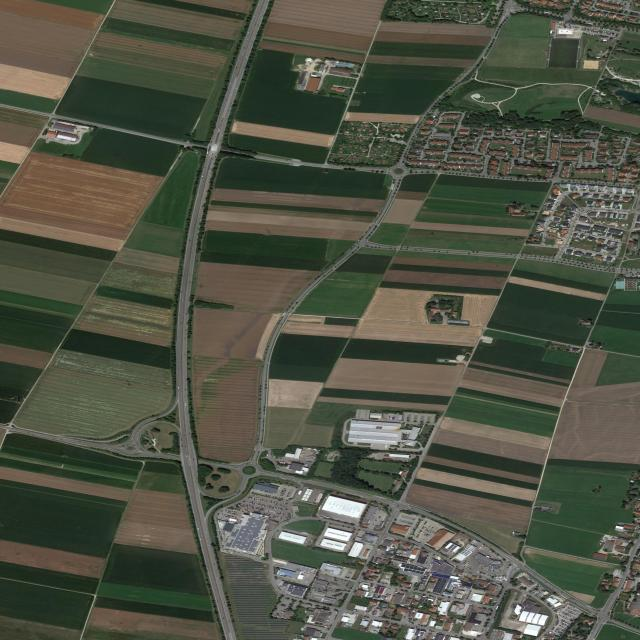large-vehicle: (281, 461, 283, 464), (279, 461, 281, 464), (283, 461, 284, 464)
small-vehicle: (47, 141, 49, 143), (222, 135, 223, 136)
